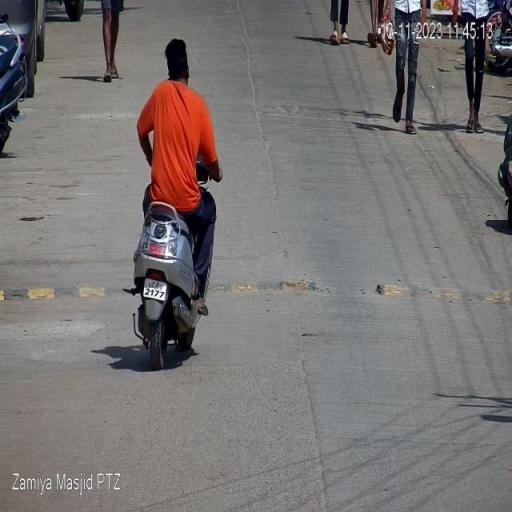using mobile: (164, 68, 176, 82)
